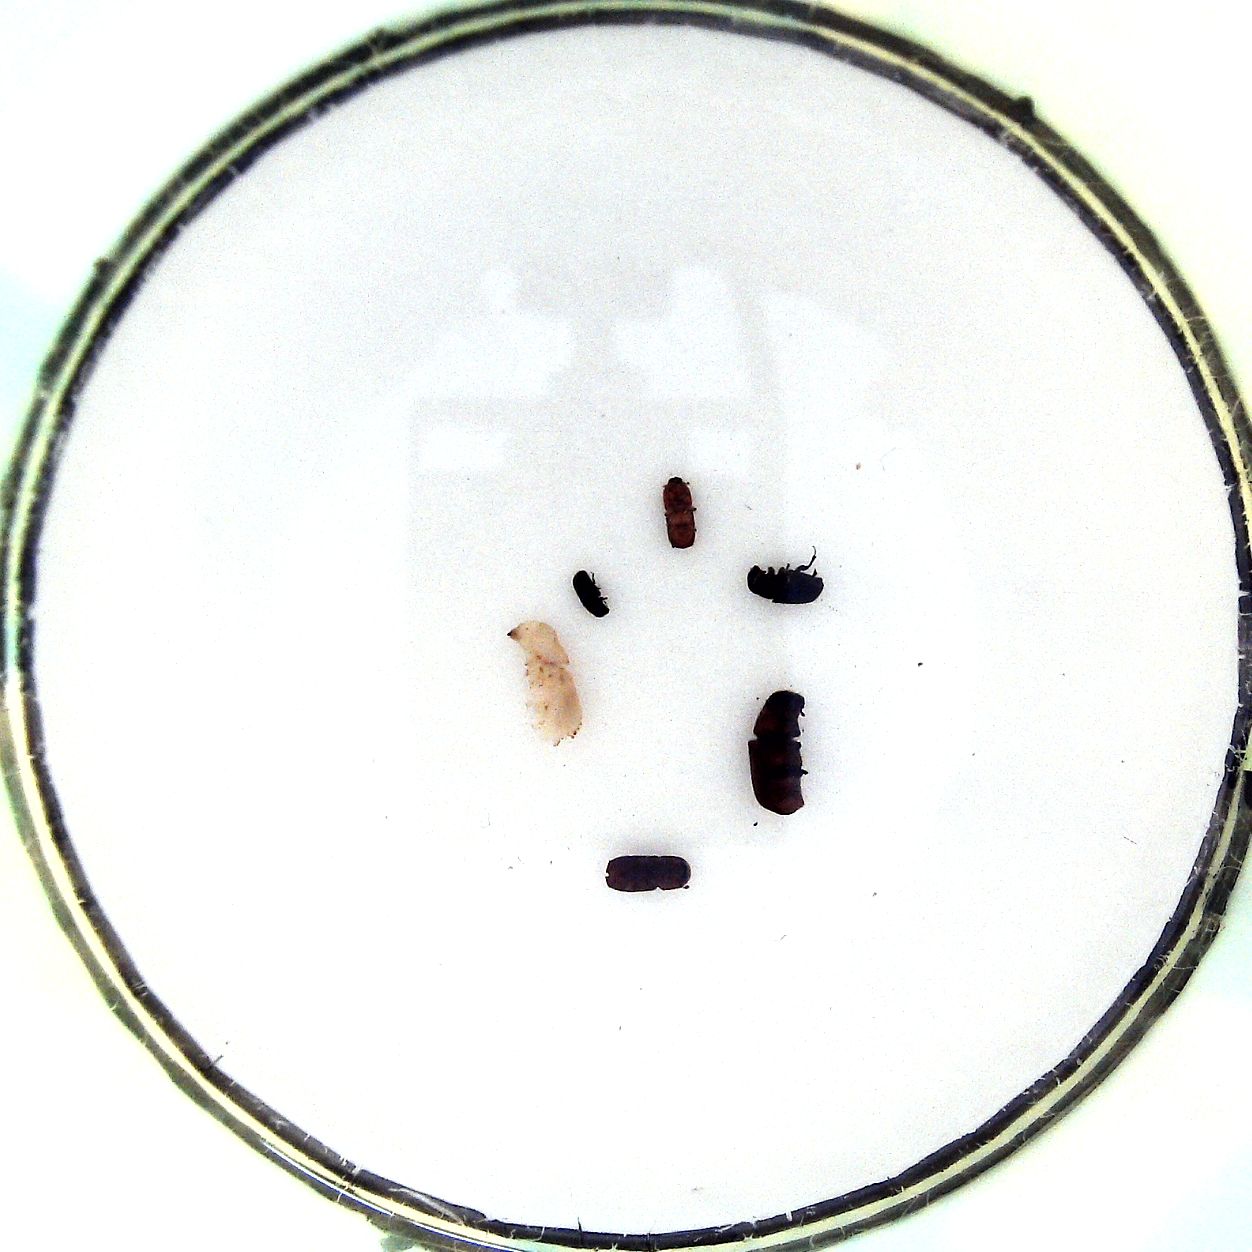Boerner: (498, 617, 580, 743)
Leconte: (744, 689, 812, 822)
Linnaeus: (595, 847, 694, 901)
acuminatus: (662, 474, 702, 551)
armandi: (744, 553, 825, 604)
coleoptera: (566, 565, 617, 620)
